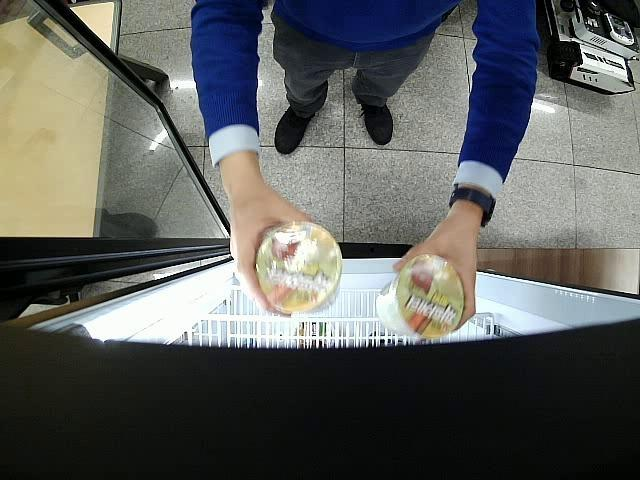04_chapagetti_S: (256, 222, 342, 314), (376, 255, 464, 336)
